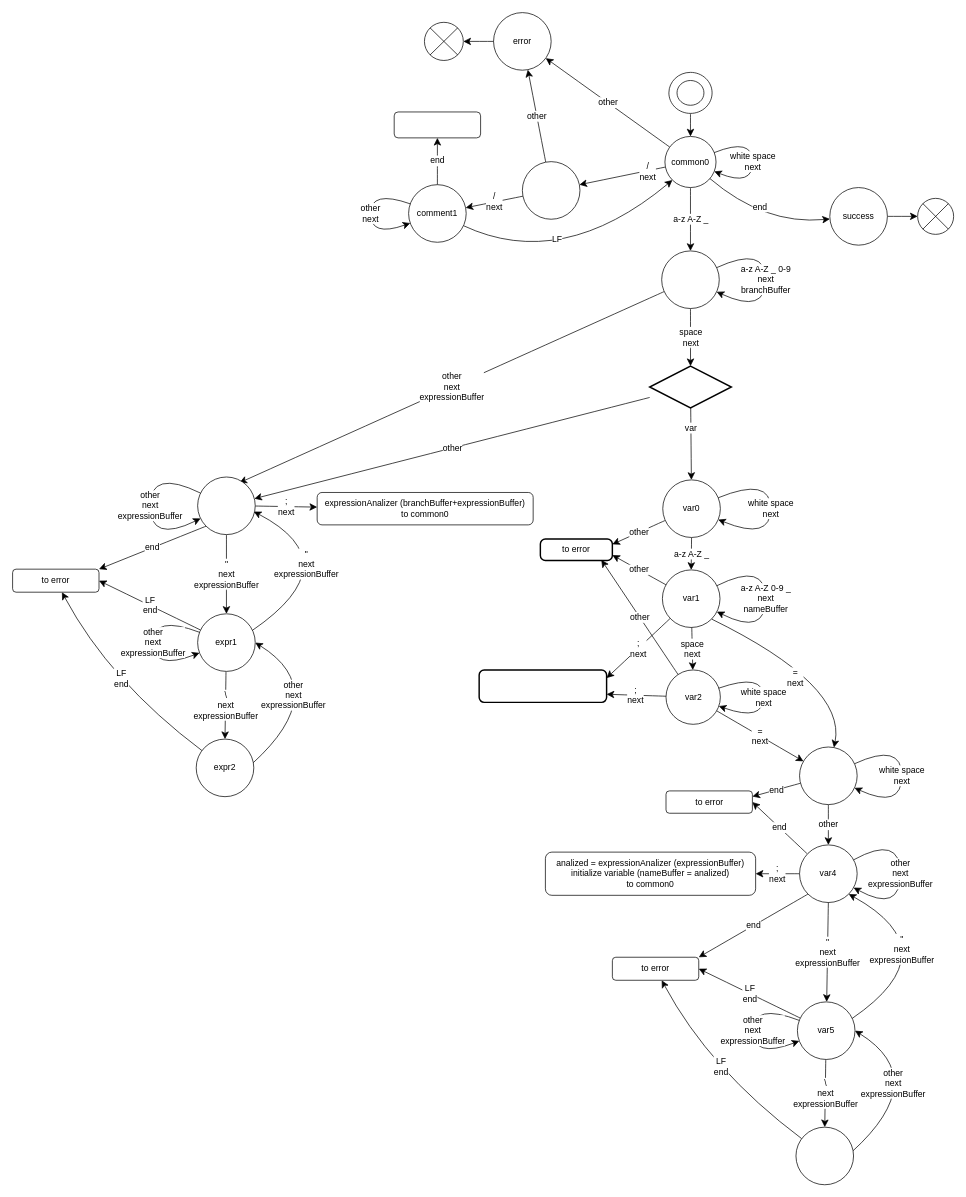
Image size: 966x1197. Some labels were removed from this diagram. Each missing label, with the box of its shape:
branchBuffer==: (649, 365, 732, 408)
comment0: (522, 161, 580, 219)
common1: (661, 250, 719, 309)
expr0: (197, 476, 255, 535)
register variable (nameBuffer) to common0: (478, 669, 607, 703)
to success: (393, 111, 481, 138)
var3: (799, 746, 857, 805)
var6: (795, 1126, 854, 1185)
